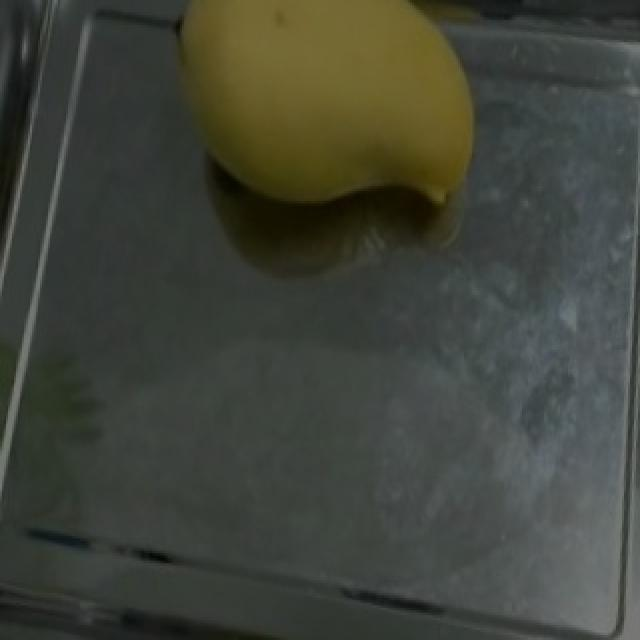fruit: (150, 0, 498, 231)
